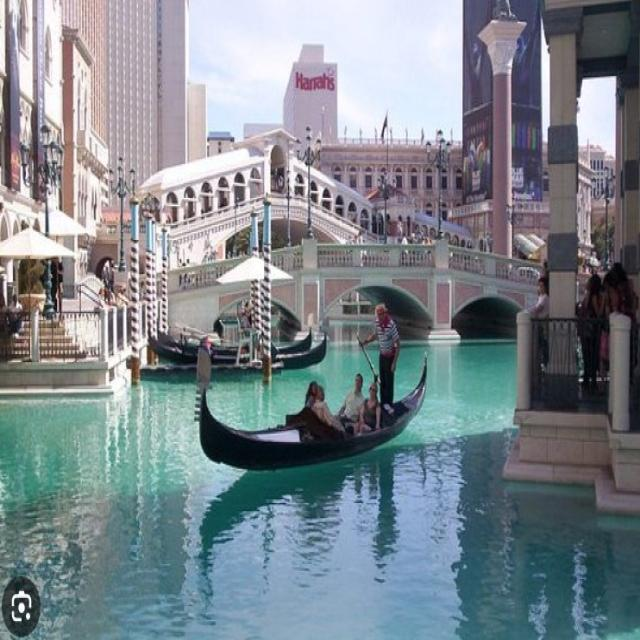boat: (184, 310, 445, 490), (137, 321, 340, 382)
